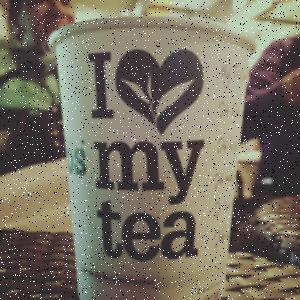Cup: (48, 17, 260, 300)
